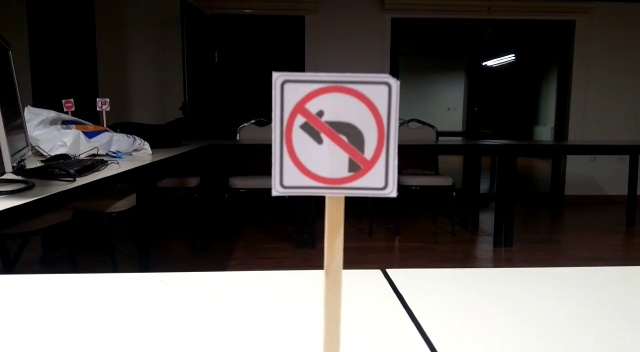sola_donulmez: (278, 83, 390, 186)
